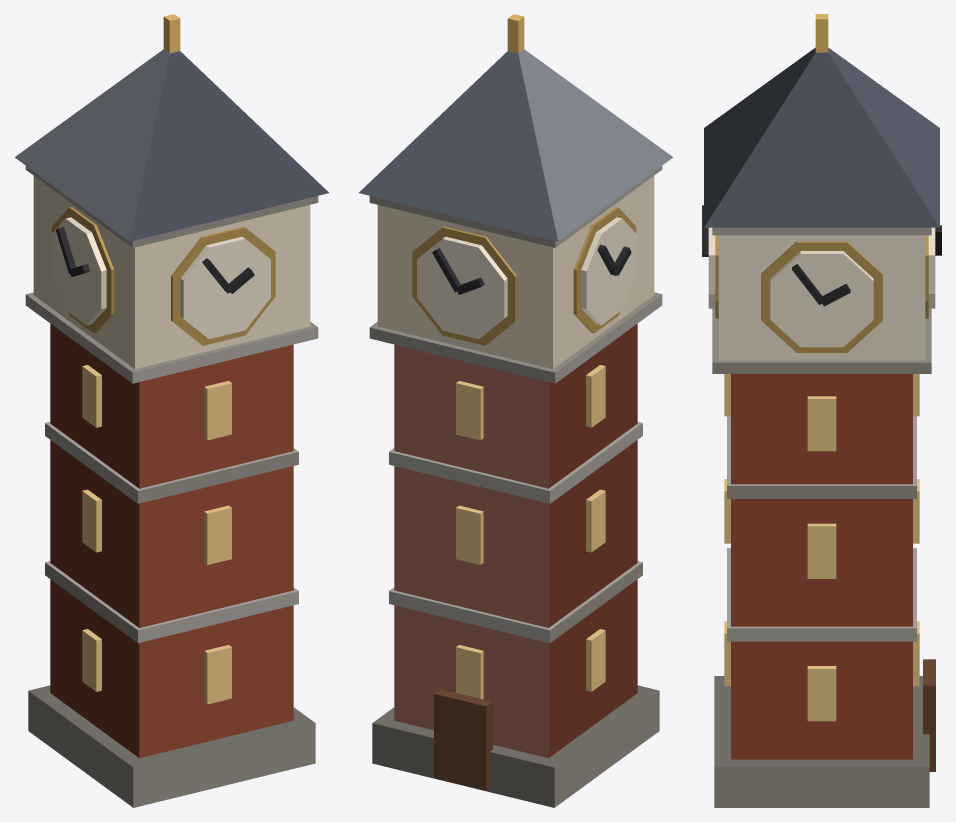
Rendered from SM_ClockTower.fbx.
3 views of the same model, side by side, from view 1: azimuth 30°, elevation 25°; view 2: azimuth 150°, elevation 25°; view 3: azimuth 270°, elevation 25° (orthographic). The views are drawn at different scales.
Visible parts, largest first — view 1: SM_ClockTower; view 2: SM_ClockTower; view 3: SM_ClockTower.
Boxes of the visible parts, left/top/right/bottom form: SM_ClockTower: left=14, top=14, right=328, bottom=807; SM_ClockTower: left=359, top=14, right=673, bottom=807; SM_ClockTower: left=702, top=14, right=941, bottom=807.
Bounding box in the file's own units: 5.8 × 19.9 × 5.8.
